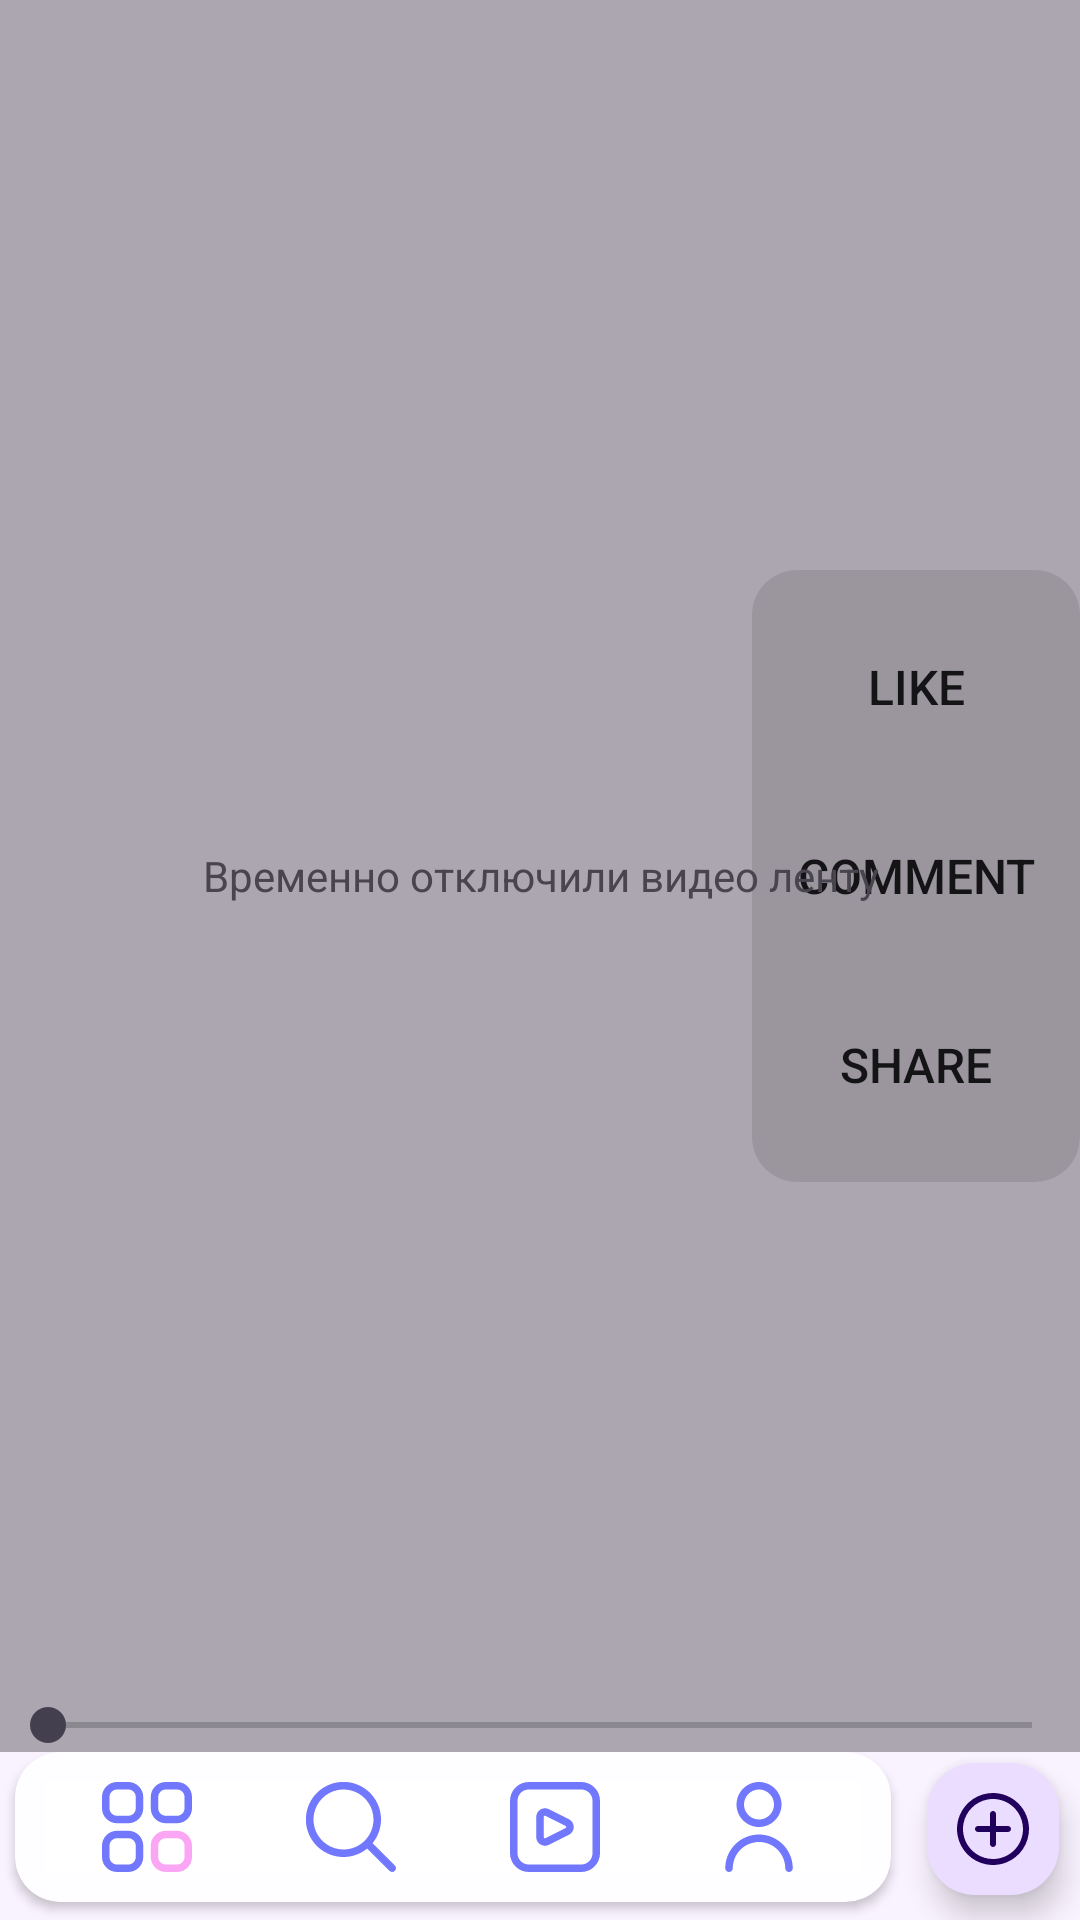

Screen size 1080 x 1920. Icon name, then its center in pixels as (x=x, y=y):
Account: (x=759, y=1827)
Add post: (x=993, y=1831)
Home screen: (x=147, y=1827)
Search screen: (x=351, y=1827)
Videos feed: (x=555, y=1827)
